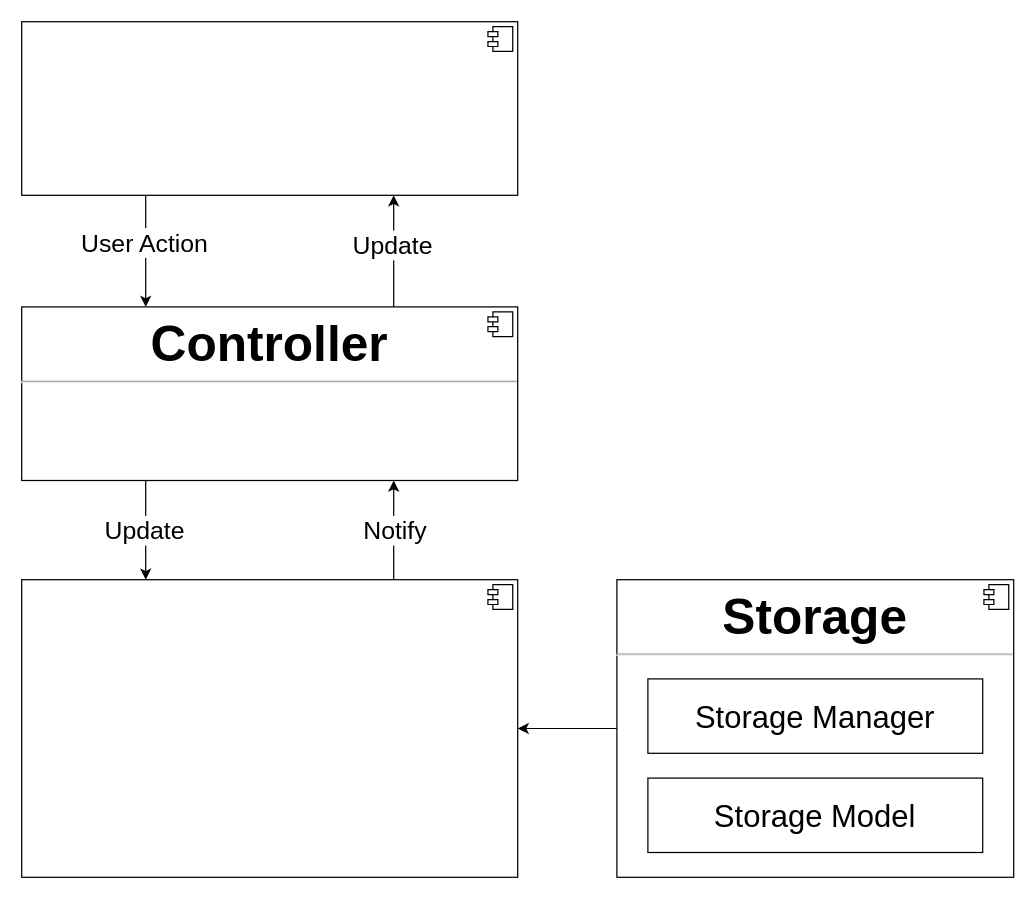
Image size: 1035x899. Some labels were removed from this diagram. The shapes that lost their labels are listed below. From the top down, each one's centre as x and y in pixels, then its label:
[269,107]: View
[269,727]: Model
